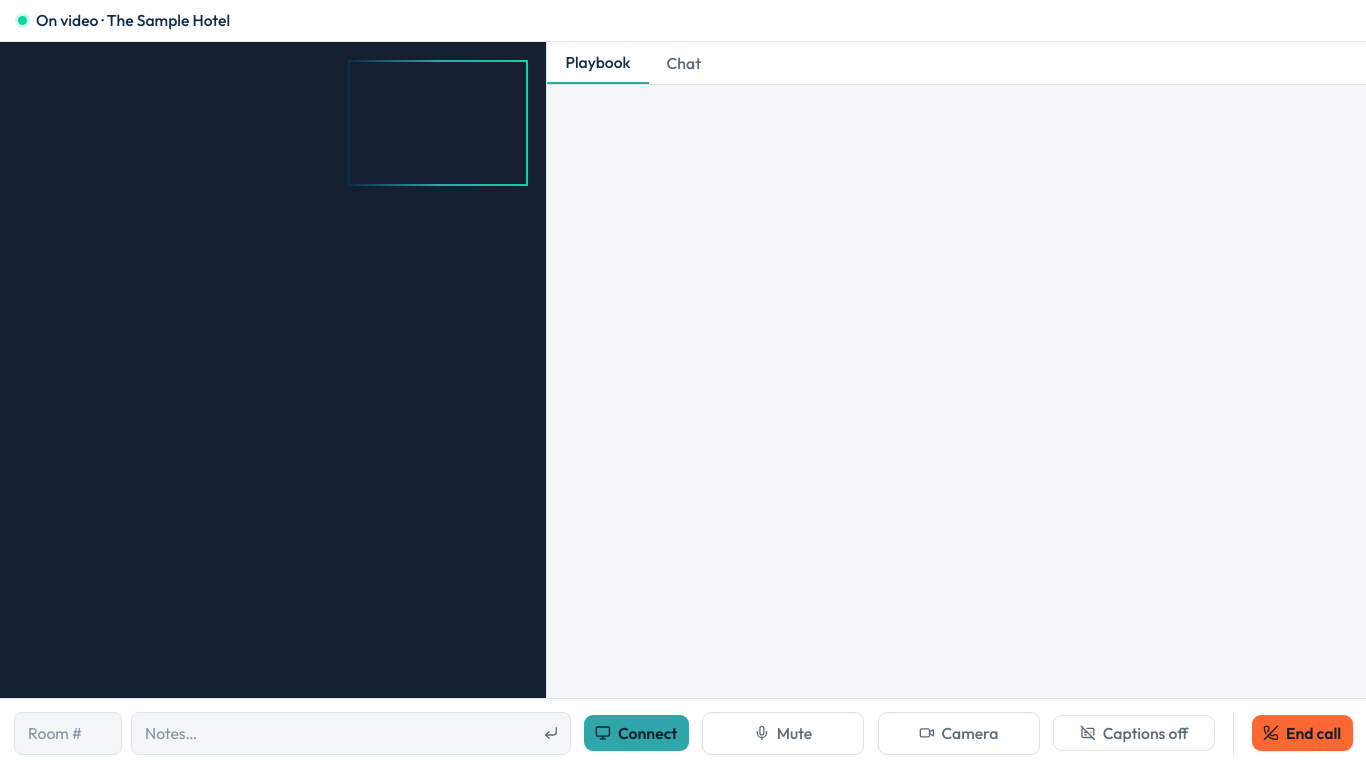
it: VideoCall — provider-neutral behavior (livekit harness) › surfaces a thrown Connect as a retryable failure, not silence
This screenshot has width=1366, height=768.
Step 1. Click the button "Connect" → (636, 733), box [584,715,689,751]
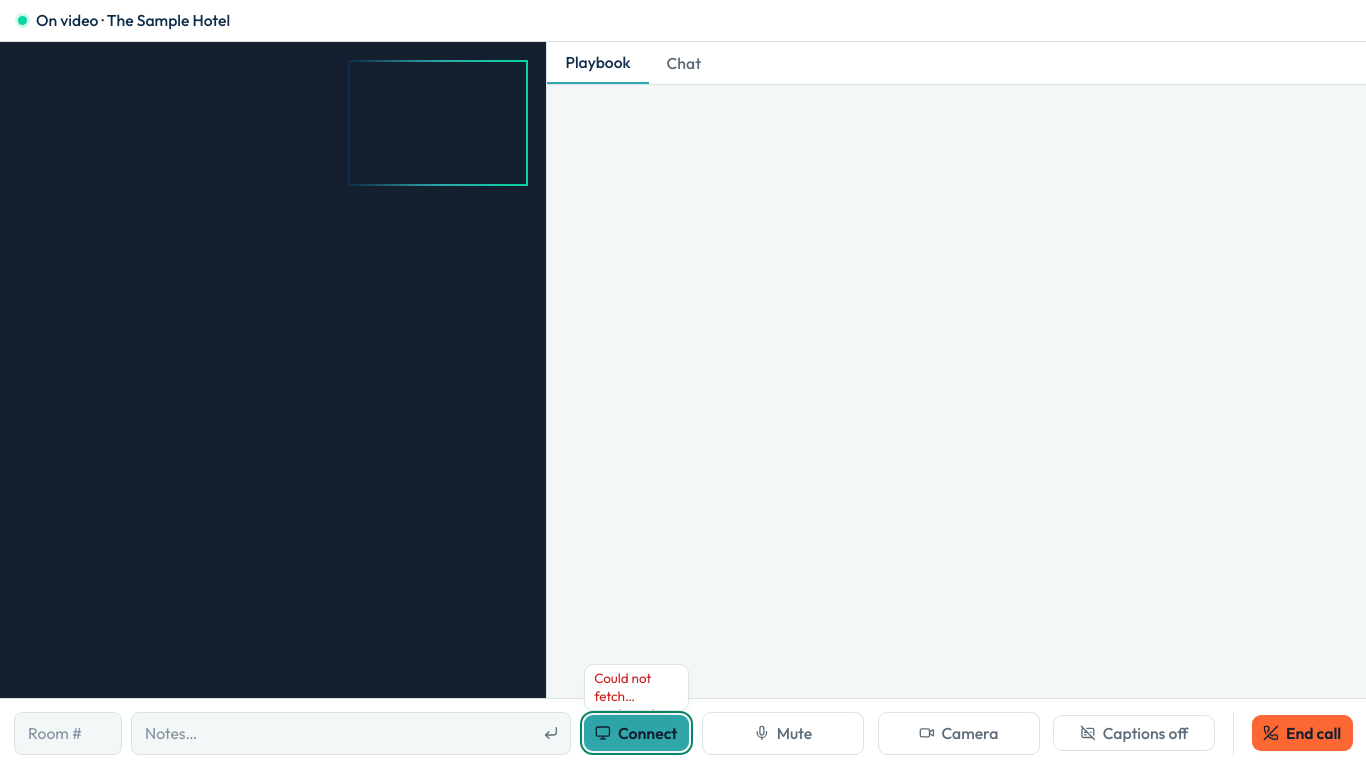
Result: the message reads "Could not fetch credentials. Try again." at [594,669,664,741]
